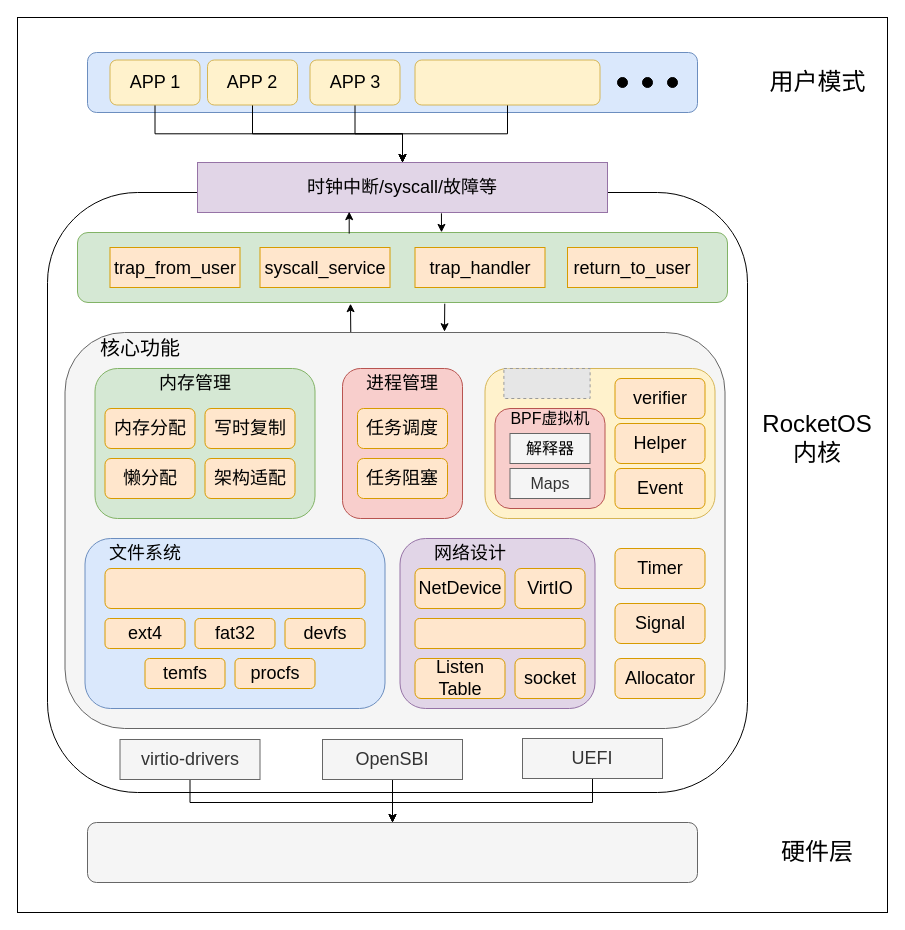
The diagram is 905 pixels wide and 930 high, and some of its shapes have lost their labels. Grey dashed boxes stand in for pictures. The centre of each missing label's shape, as x and y in pixels:
eBPF program: point (507, 82)
HardWare: point (392, 852)
InterfaceWrapper: point (499, 633)
VFS: point (234, 588)
